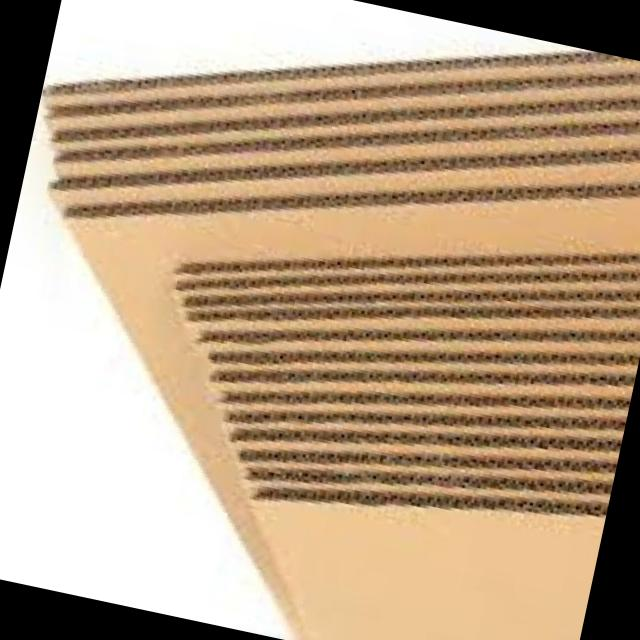cardboard paper: (43, 54, 640, 640)
